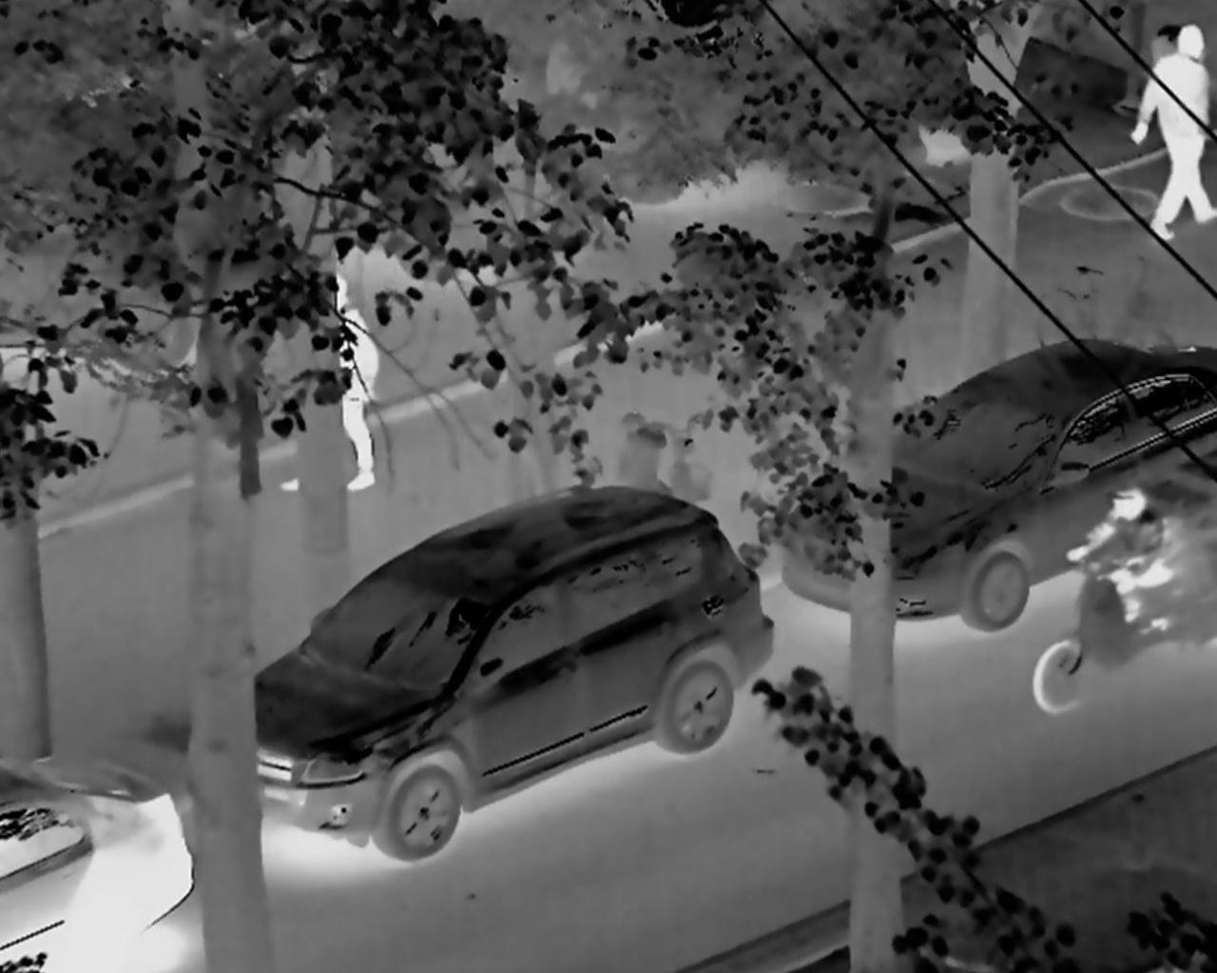person: (1130, 18, 1217, 236), (1066, 488, 1173, 654), (323, 269, 379, 491)
